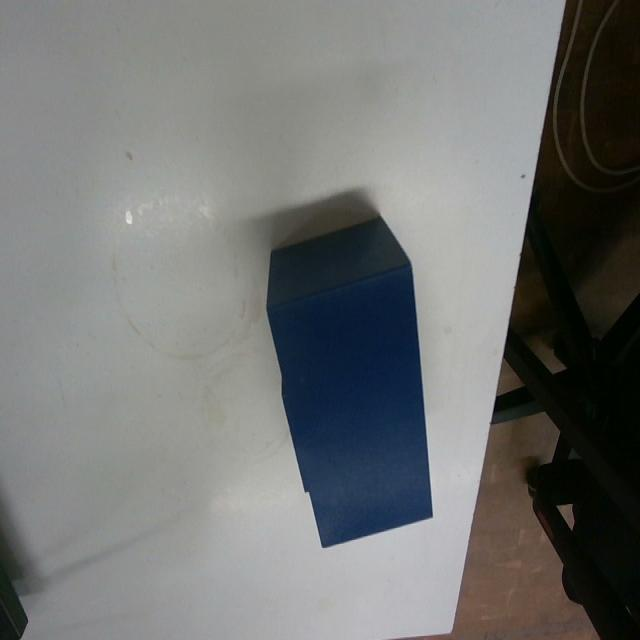Blue Cuboid: (263, 211, 435, 549)
